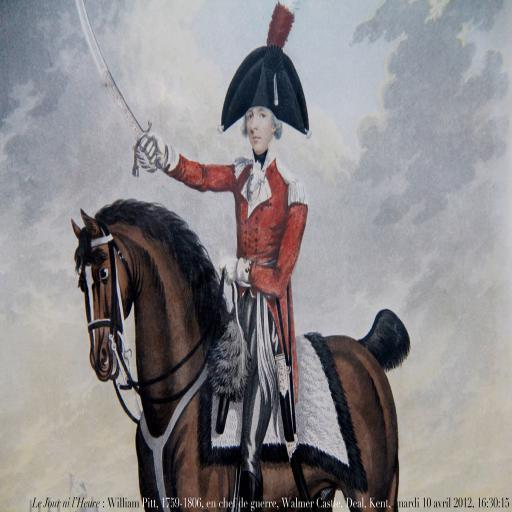Horse: (70, 196, 412, 511)
